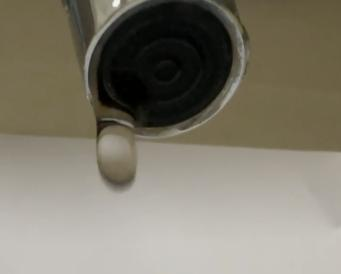water drop: (94, 107, 139, 187)
